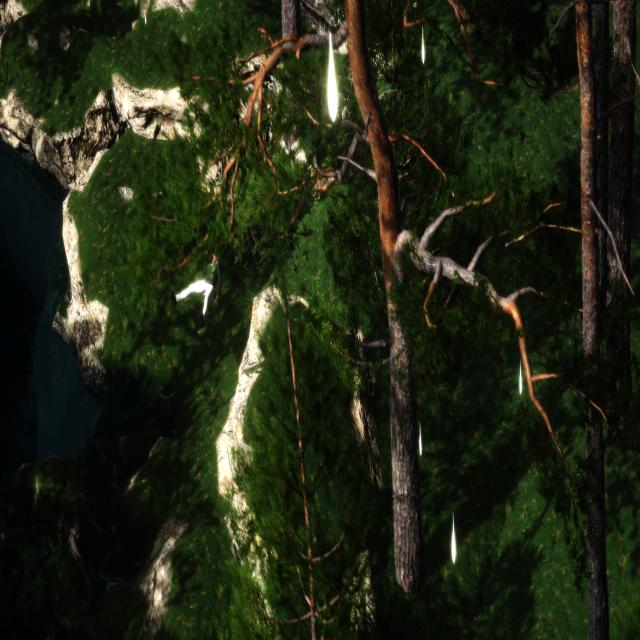Human: (173, 248, 226, 329)
